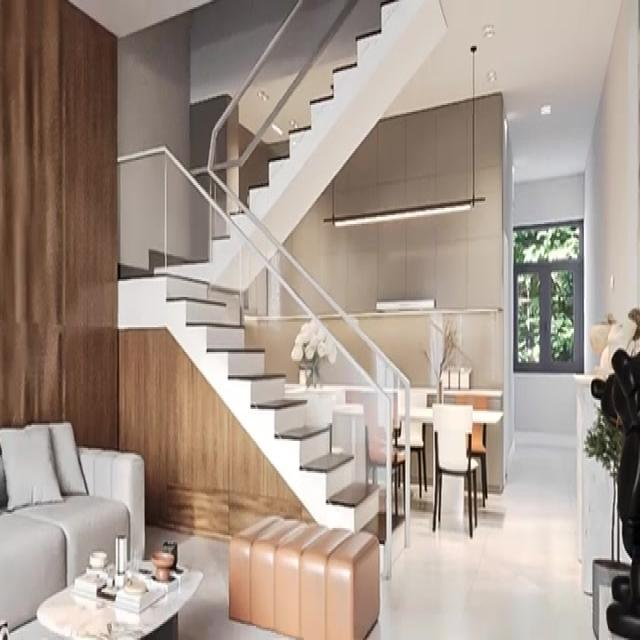obstacle: (0, 420, 146, 638), (225, 519, 380, 640), (35, 556, 203, 638), (430, 404, 478, 542)
